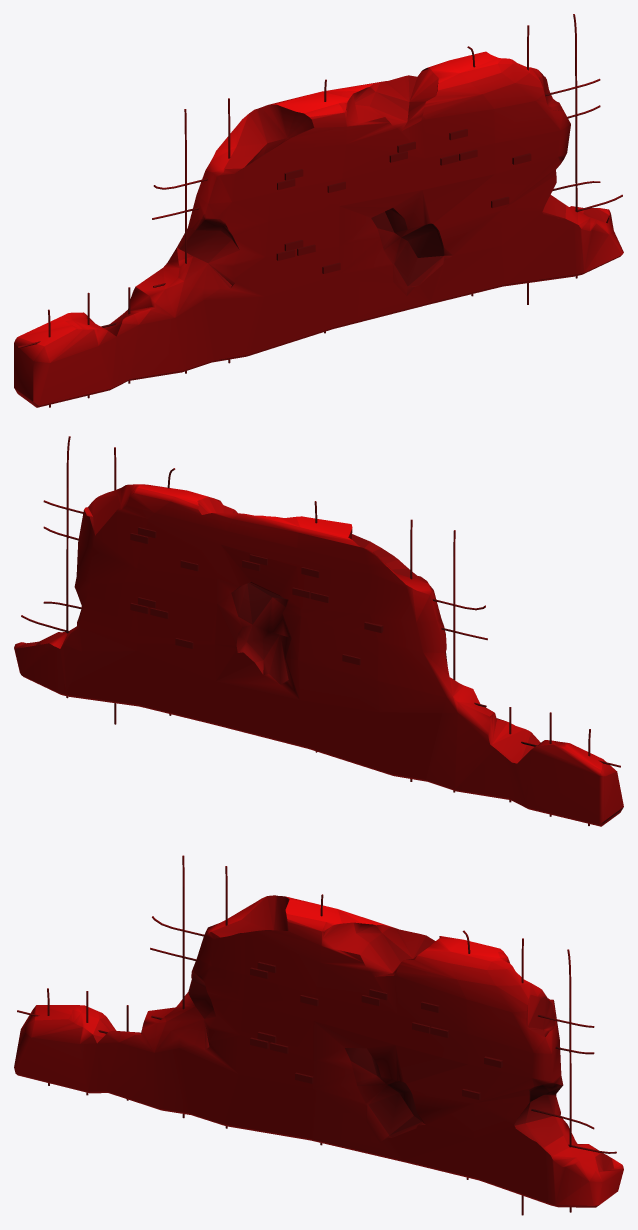
File: DestroyedWall.glb
3 views of the same model, one above another, from view 1: azimuth 30°, elevation 25°; view 2: azimuth 150°, elevation 25°; view 3: azimuth 330°, elevation 25° (orthographic).
Parts seen in each view (by area): view 1: DestroyedWall; view 2: DestroyedWall; view 3: DestroyedWall.
Part boxes in pixels (<box>): DestroyedWall: <box>14,14,623,407</box>; DestroyedWall: <box>14,436,623,826</box>; DestroyedWall: <box>14,855,623,1215</box>.
Size of the model in its own units: 39.44 by 17.39 by 2.89.
